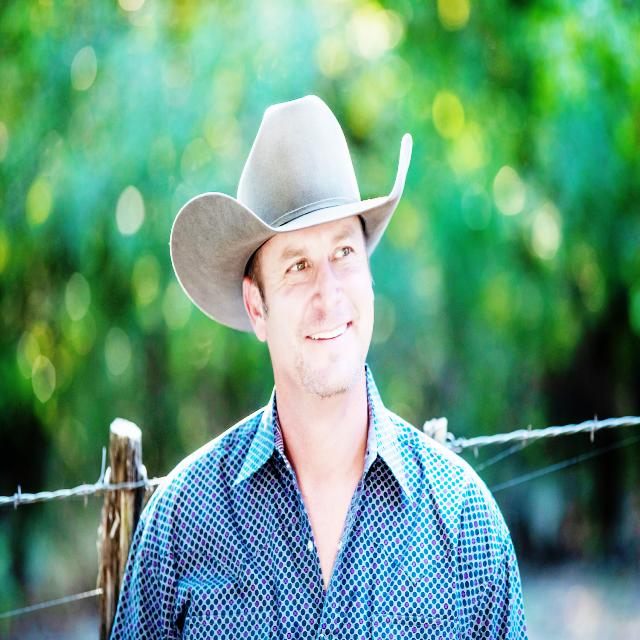TOPI: (162, 90, 417, 336)
